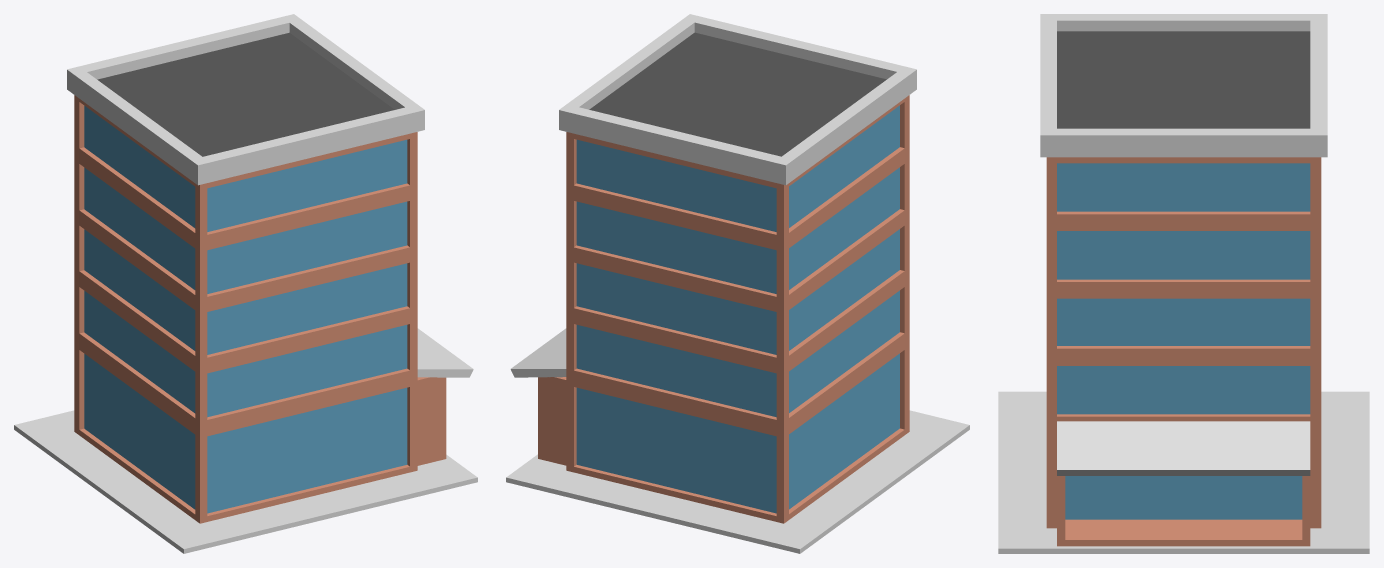
Rendered from greyRoof.fbx.
3 renders of one model, left to right at view 1: azimuth 30°, elevation 25°; view 2: azimuth 150°, elevation 25°; view 3: azimuth 270°, elevation 25°, orthographic. The views are drawn at different scales.
Visible parts, largest first — view 1: house38; view 2: house38; view 3: house38.
Part boxes in pixels (box(x1,y1,x2,y2)): house38: box(14, 14, 477, 553); house38: box(506, 14, 969, 553); house38: box(998, 14, 1369, 553).
Bounding box in the file's own units: 663 × 733 × 616.
